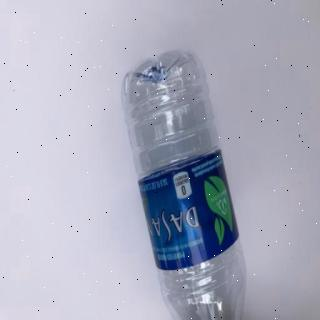Plastic-bottle: (119, 44, 251, 320)
